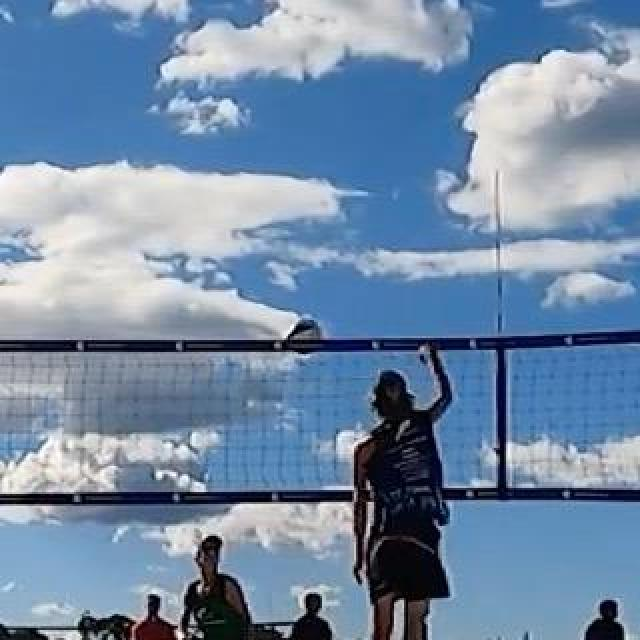volleyball: (287, 318, 323, 356)
